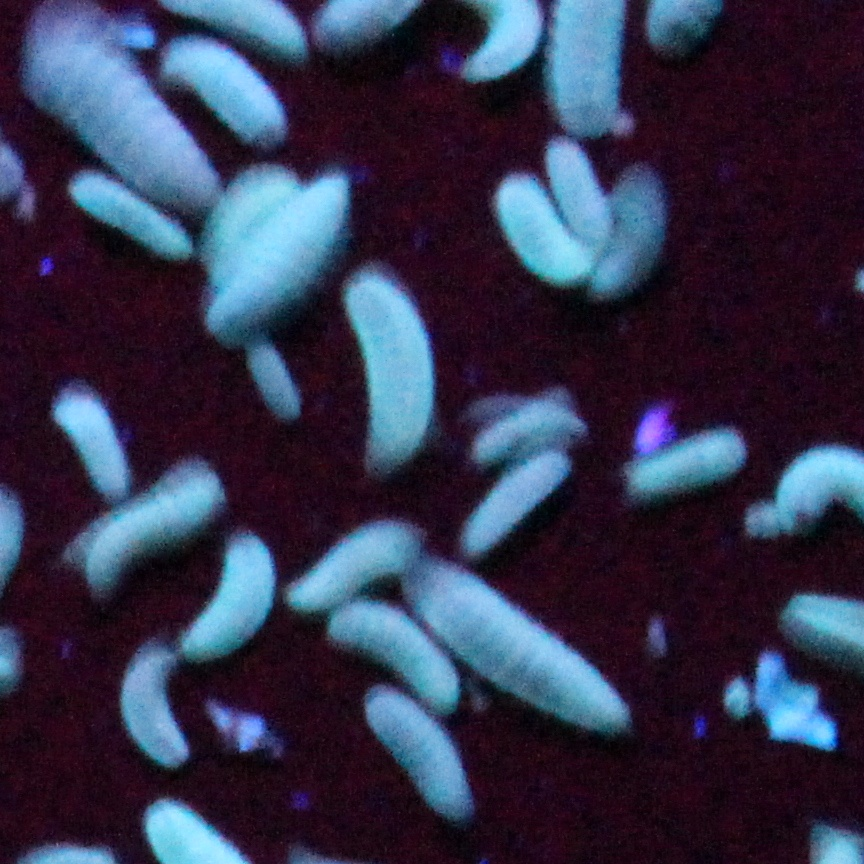larve: (400, 553, 641, 732), (206, 169, 356, 338), (346, 251, 435, 478), (73, 463, 229, 586), (325, 599, 464, 715), (366, 692, 481, 819), (454, 447, 575, 565), (162, 38, 285, 147), (283, 519, 427, 601), (183, 528, 273, 659), (494, 176, 606, 276), (69, 176, 194, 257), (52, 386, 139, 497), (202, 163, 291, 265), (594, 161, 662, 290), (121, 642, 189, 765), (541, 140, 616, 251), (625, 428, 754, 492), (248, 342, 308, 424)
